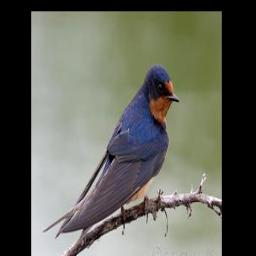Swallow: (42, 62, 180, 240)
